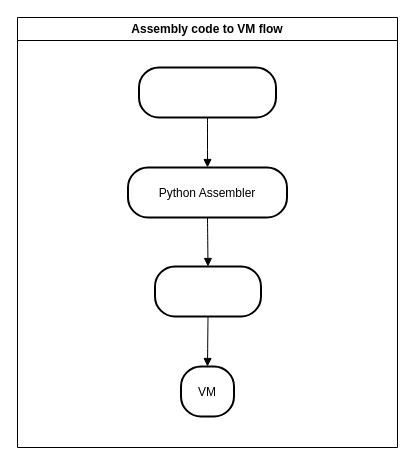
Image size: 415x465. Some labels were removed from this diagram. The shapes that lost their labels are listed below. From the top down, each one's box as (x1, y1, x2, y2) in pixels, then its label:
(138, 66, 276, 118): Assembly code
(154, 265, 262, 317): Binary file
